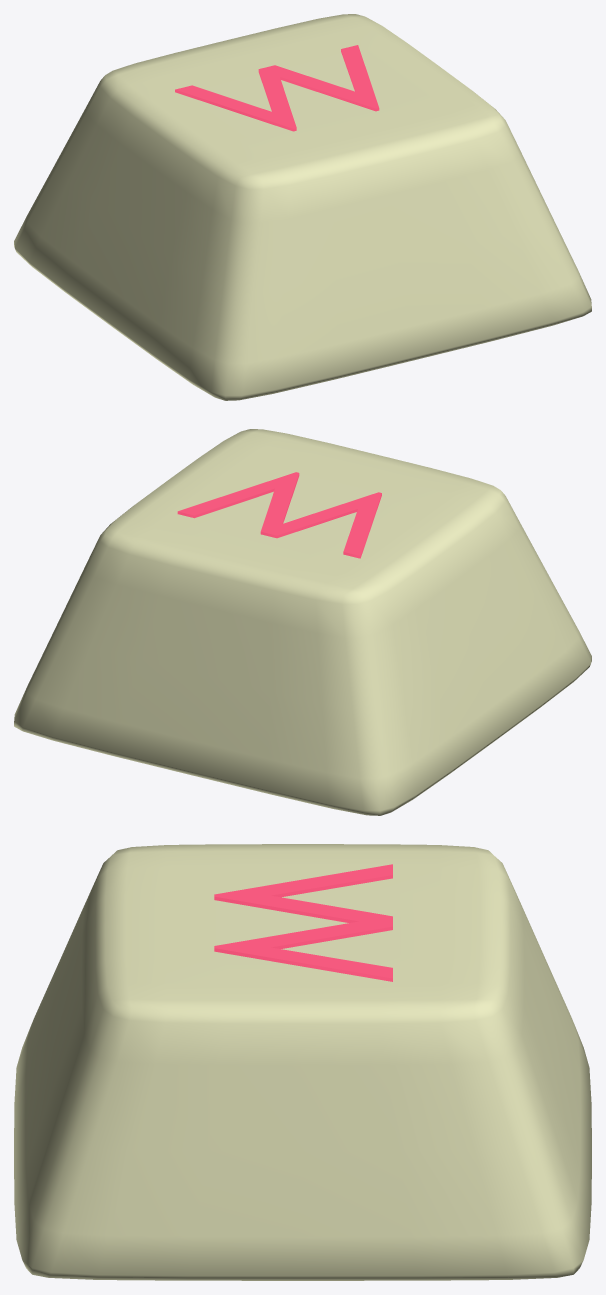
The model's file is keyW.glb.
3 views of the same model, one above another, from view 1: azimuth 30°, elevation 25°; view 2: azimuth 150°, elevation 25°; view 3: azimuth 270°, elevation 25° (orthographic). The views are drawn at different scales.
Parts seen in each view (by area): view 1: Cube, Text; view 2: Cube, Text; view 3: Cube, Text.
Part boxes in pixels (x1,y1,x2,y2): Cube: (14, 14, 591, 400); Text: (175, 45, 379, 131); Cube: (14, 429, 591, 815); Text: (177, 472, 381, 558); Cube: (14, 844, 591, 1280); Text: (214, 864, 392, 981).
Size of the model in its own units: 1.97 by 0.9057 by 1.97.
